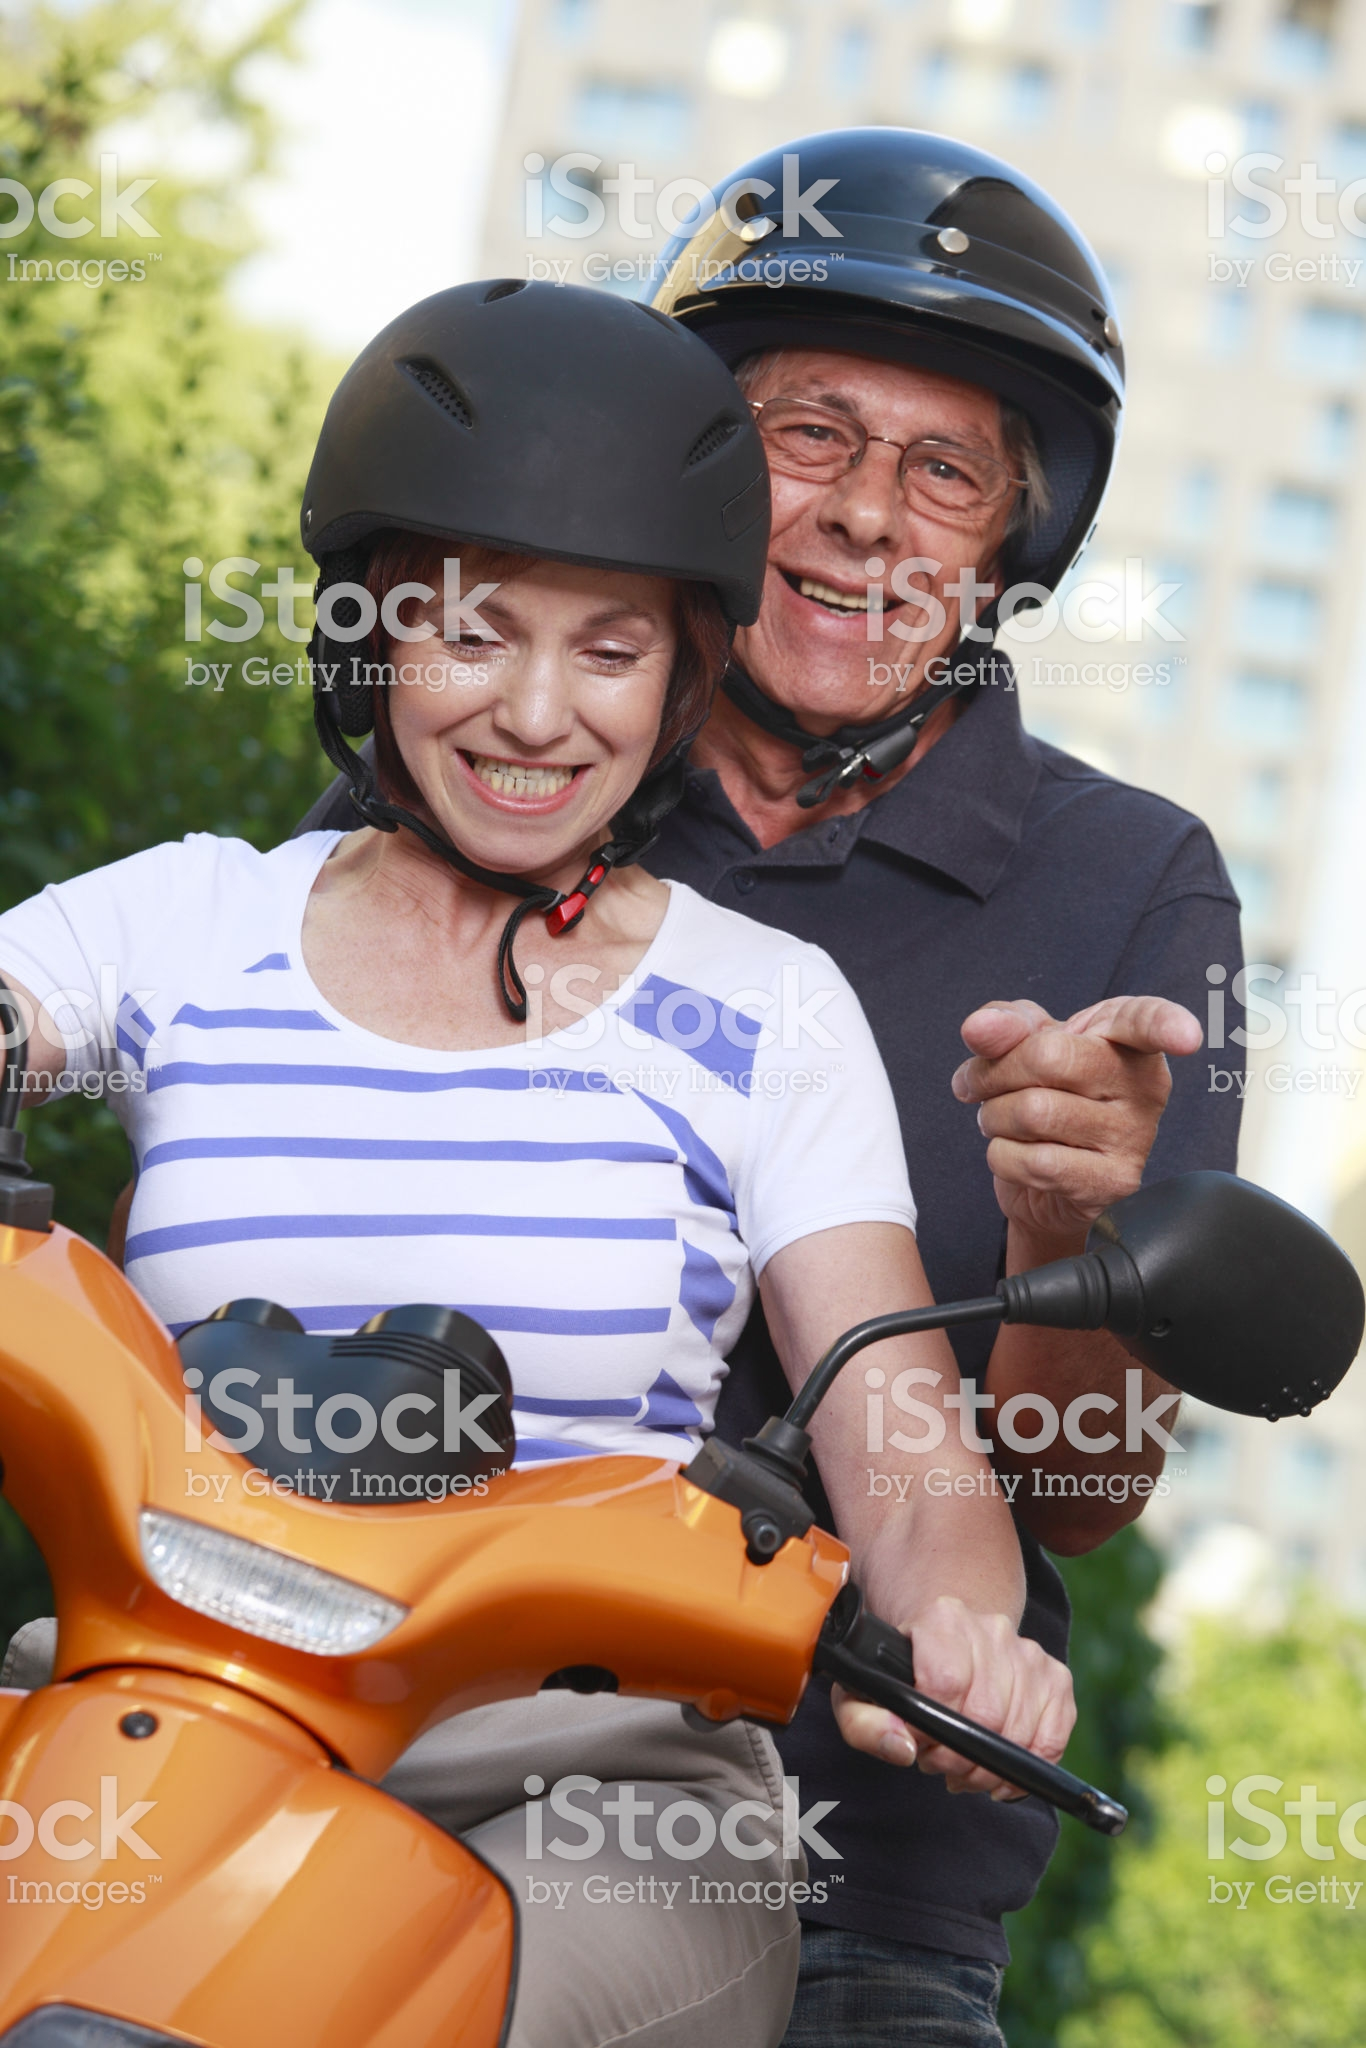helmet: (323, 247, 806, 622), (681, 110, 1182, 456)
